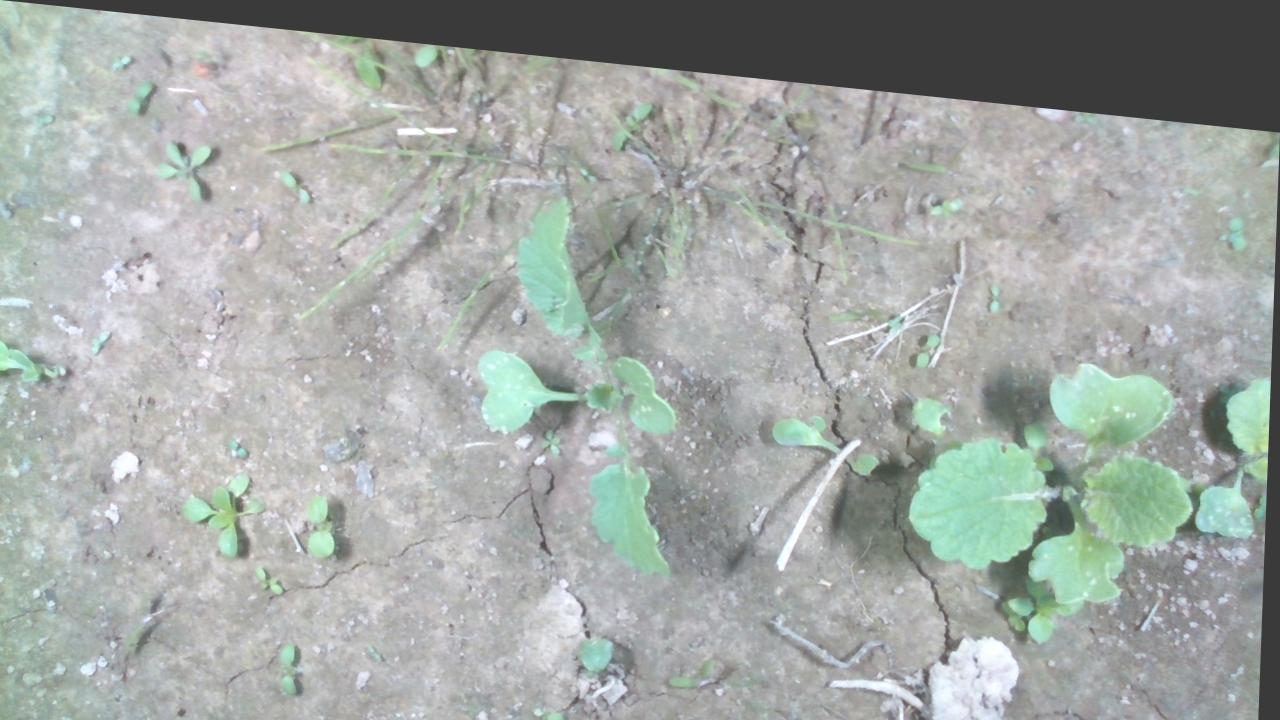weed: (156, 131, 218, 199), (305, 482, 340, 553), (670, 636, 721, 676), (280, 632, 304, 690), (123, 71, 155, 114), (278, 160, 314, 197), (256, 556, 287, 589), (916, 308, 942, 347), (88, 321, 113, 357), (105, 46, 133, 68), (987, 257, 1001, 293)
